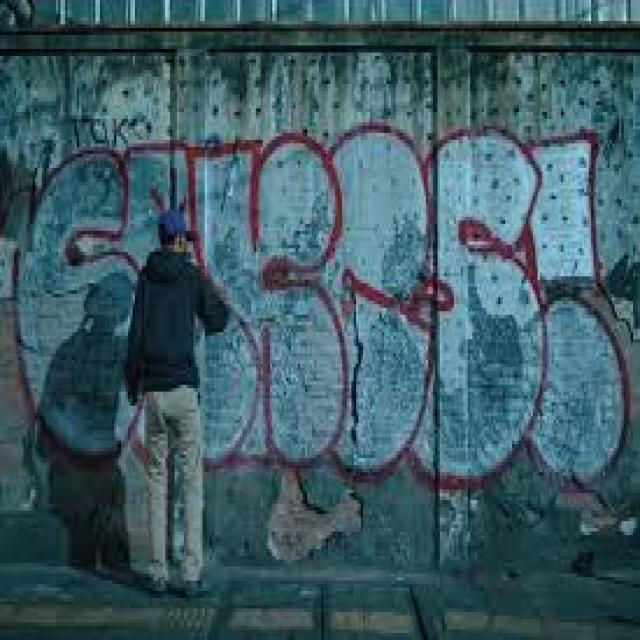-: (11, 127, 632, 497)
